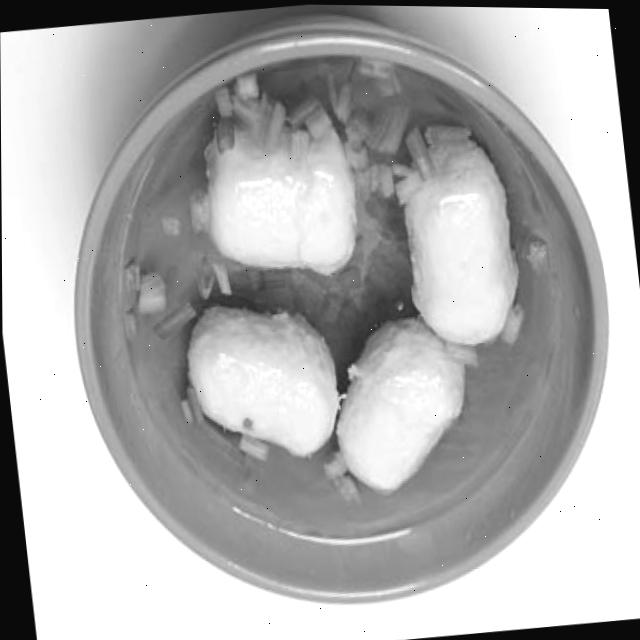熟制海鲜: (157, 75, 571, 505)
